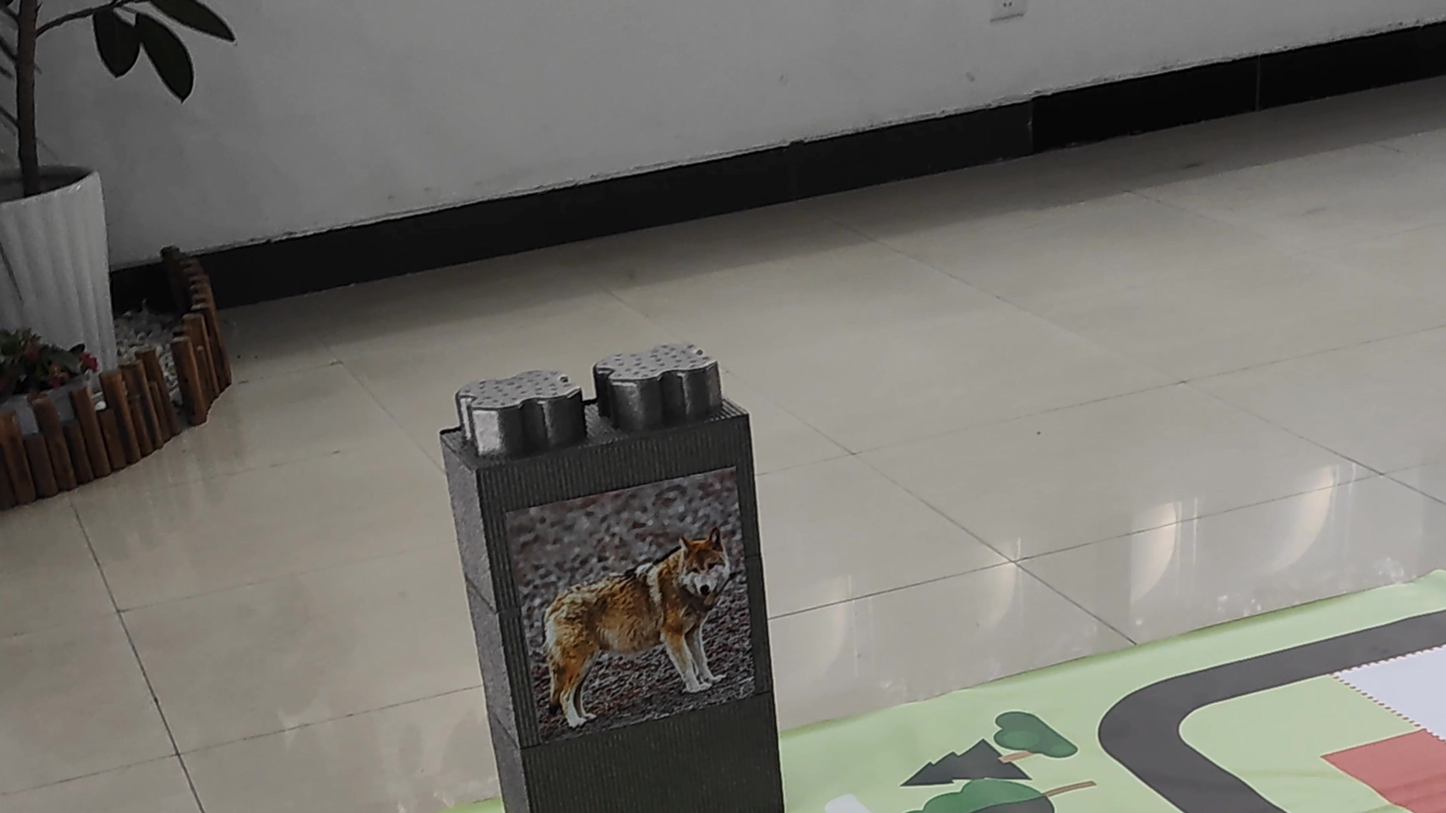wolf: (520, 512, 773, 714)
